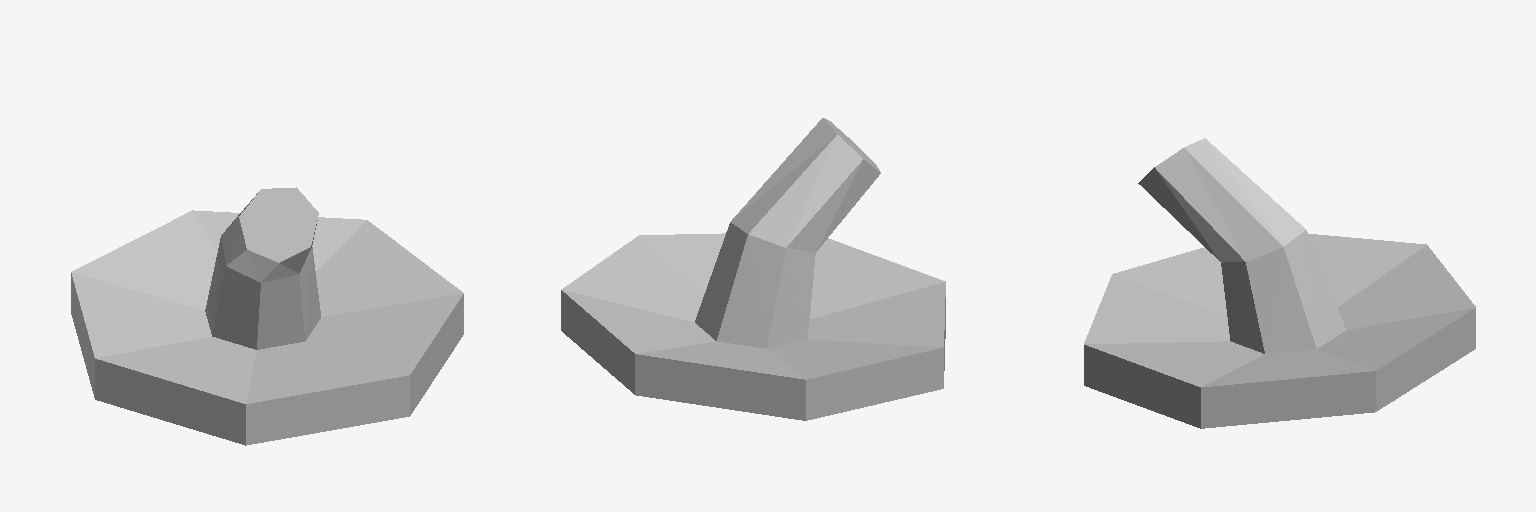
File: pumpkin_03_hat.obj
3 views of the same model, side by side, from view 1: azimuth 30°, elevation 25°; view 2: azimuth 150°, elevation 25°; view 3: azimuth 270°, elevation 25° (orthographic).
Visible parts, largest first — view 1: Pumpkin_03.002; view 2: Pumpkin_03.002; view 3: Pumpkin_03.002.
Part boxes in pixels (x1,y1,x2,y2): Pumpkin_03.002: (71, 187, 463, 445); Pumpkin_03.002: (561, 118, 945, 420); Pumpkin_03.002: (1084, 138, 1475, 428).
Size of the model in its own units: 0.2279 by 0.1361 by 0.2299.